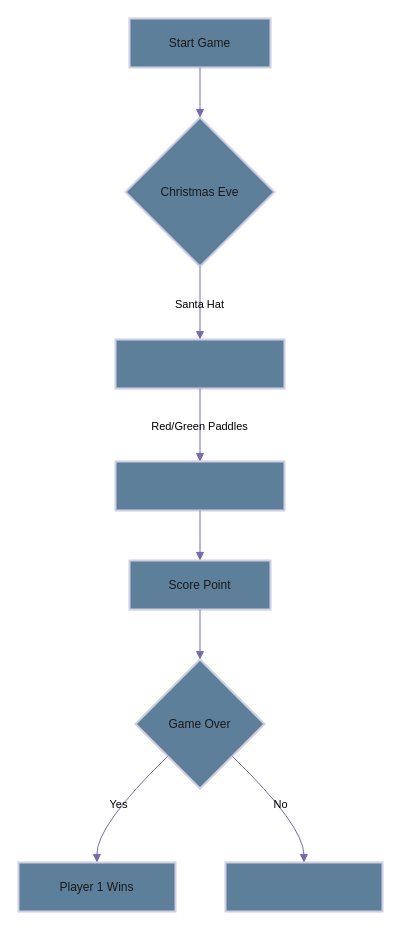
This 400x929 diagram has some shape labels left out. Here are the shapes that lost their labels. From the top down, the box of each, then its label:
(114, 338, 285, 389): Player 1 Serves
(114, 460, 285, 511): Player 2 Serves
(224, 861, 383, 912): Player 2 Wins
